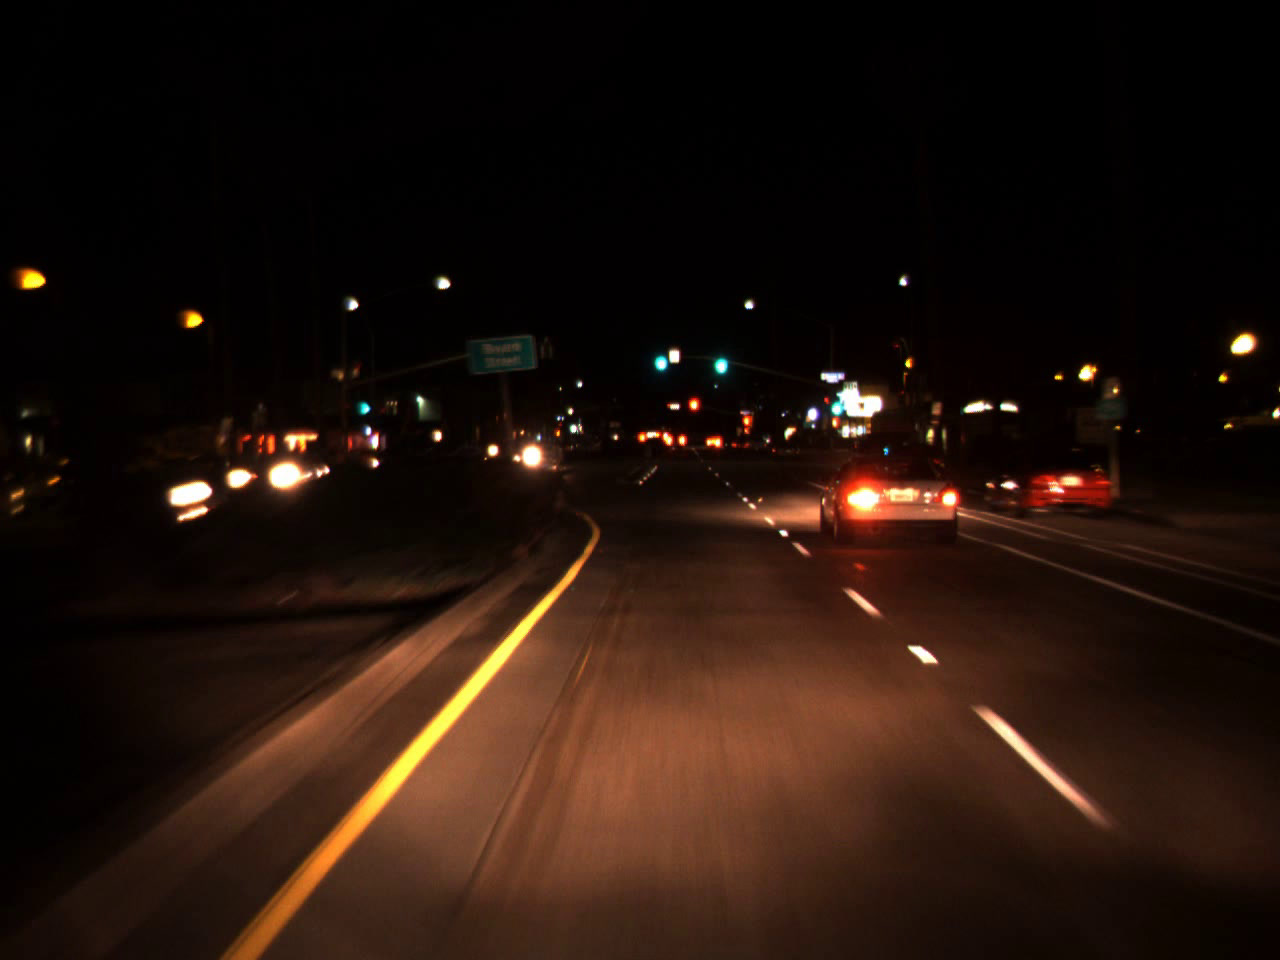go: (825, 382, 848, 421), (651, 337, 669, 376), (708, 343, 729, 376), (359, 390, 369, 417)
stop: (686, 395, 701, 427), (742, 416, 749, 432)
